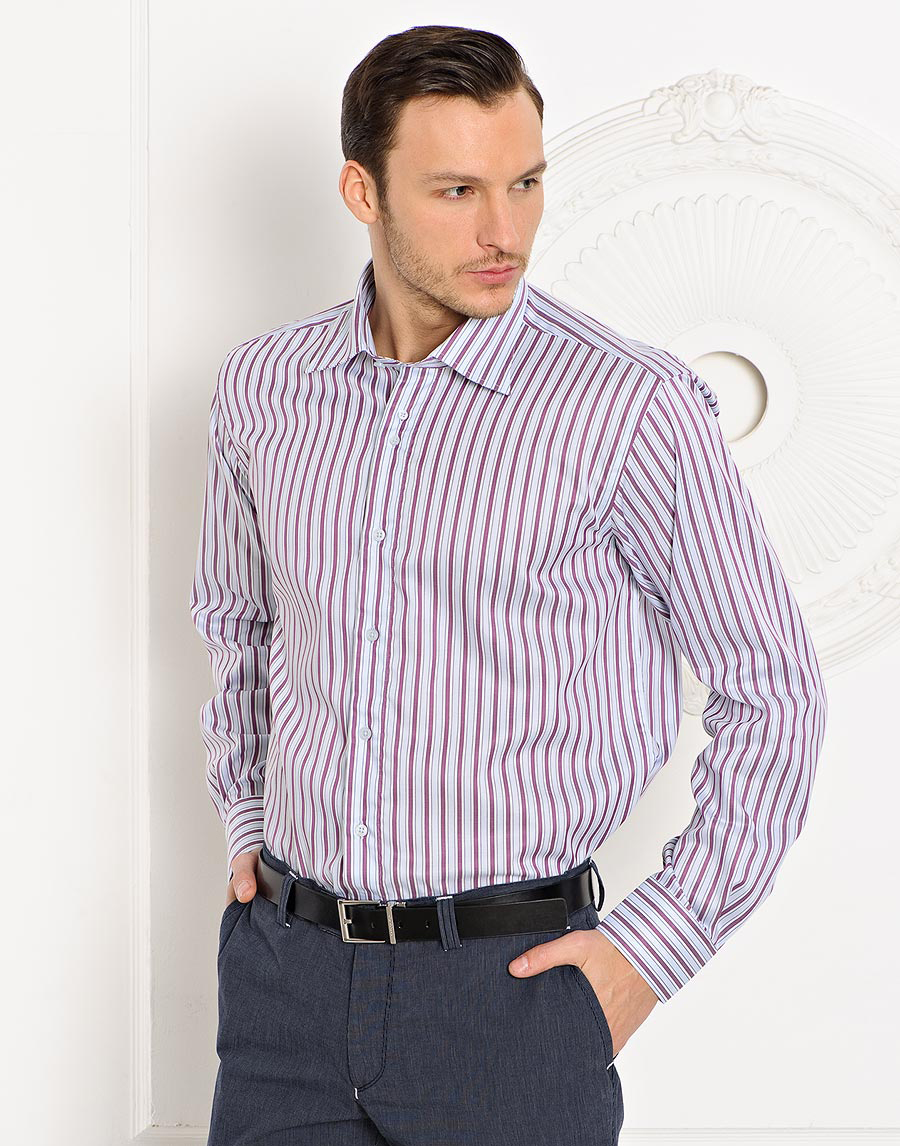striped: (187, 258, 834, 1012)
